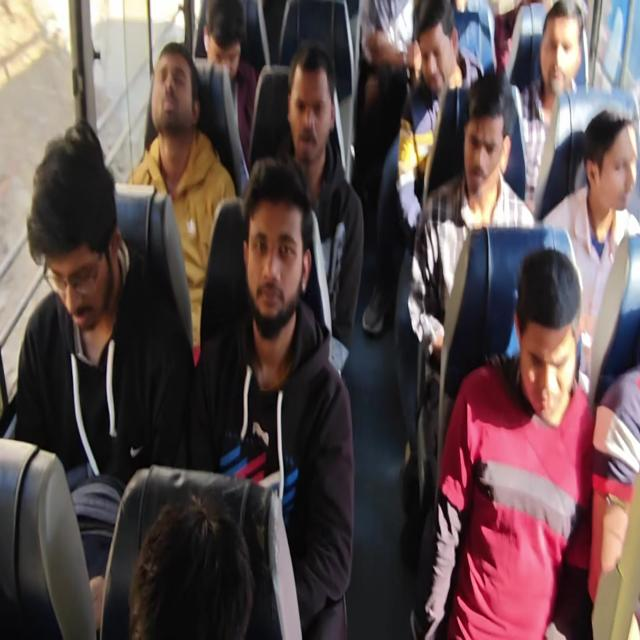person: (8, 1, 639, 638), (14, 120, 195, 630), (411, 246, 638, 638), (190, 156, 356, 638), (406, 70, 536, 512), (361, 0, 469, 335), (126, 41, 237, 362), (275, 41, 365, 377), (542, 108, 639, 386), (127, 493, 255, 639), (506, 0, 588, 220), (396, 0, 470, 232), (588, 364, 640, 638), (352, 0, 420, 198), (195, 0, 258, 186)
